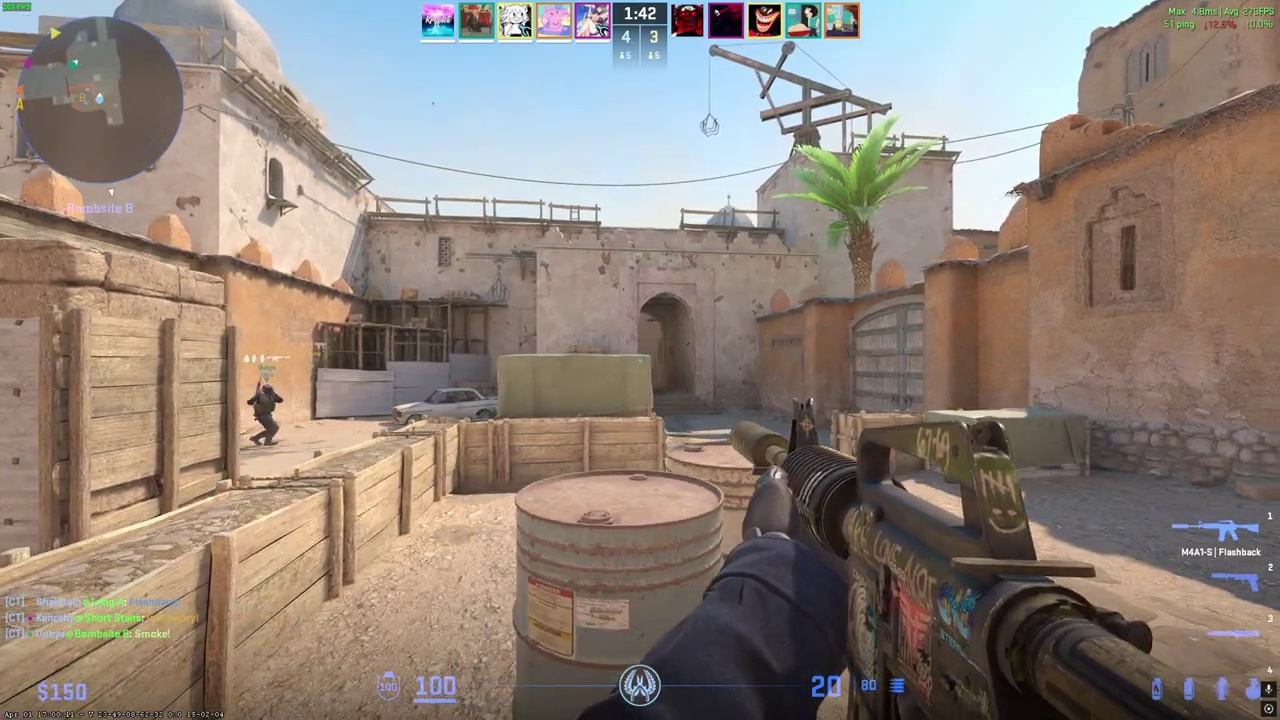CT: (250, 384, 282, 446)
